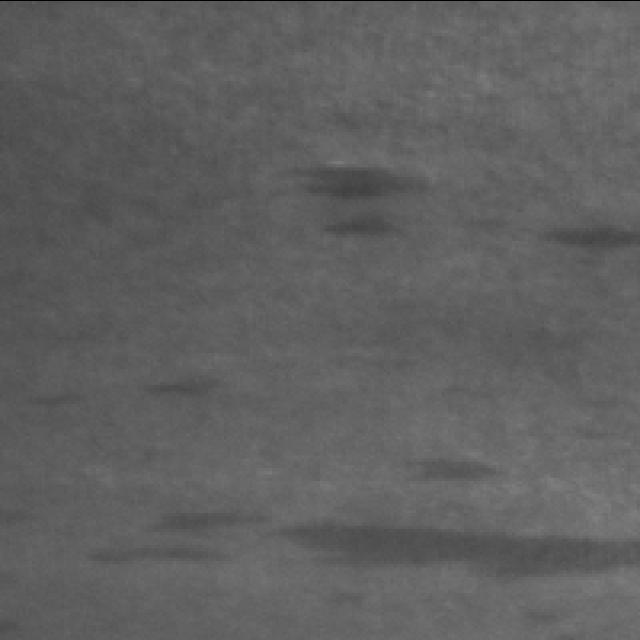inclusion: (269, 506, 640, 586), (81, 466, 256, 606), (284, 125, 408, 277), (500, 202, 633, 270), (136, 351, 252, 419), (410, 439, 506, 493)
